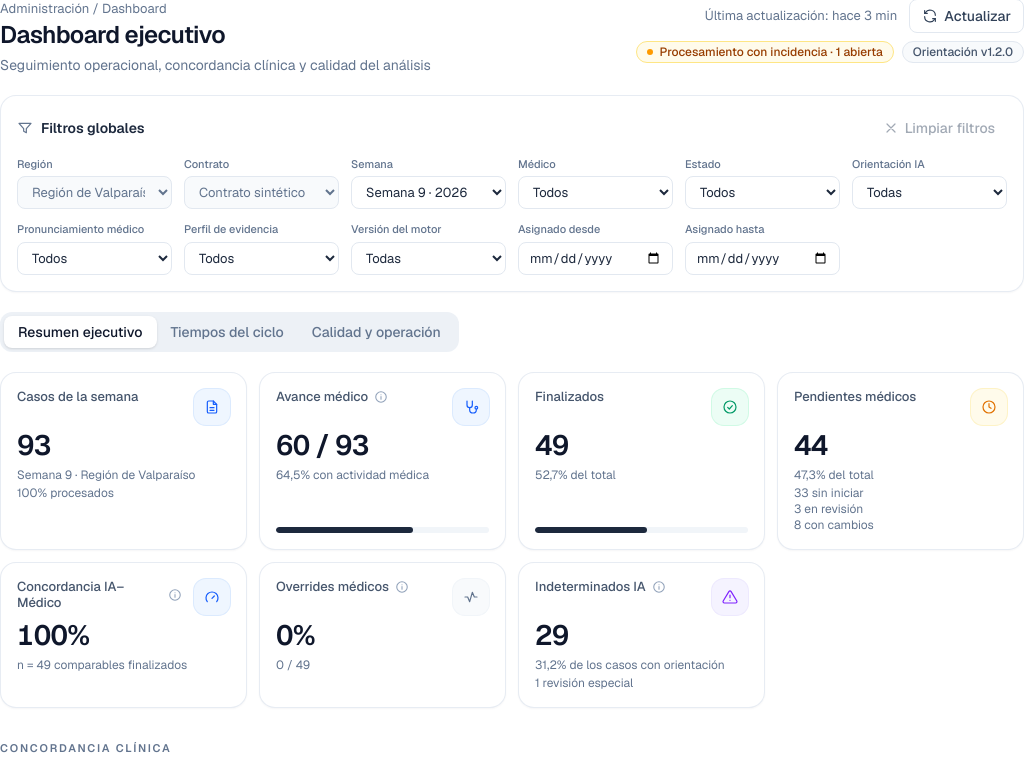
Test: Dashboard ejecutivo · tiempos del ciclo › K · sin corrección 49, con corrección 0 y campos modificados con su cobertura real
The image size is (1024, 762).
expect the element "Finalizados" is shown: met, box [518,372,765,550]
Click the tab "Tiempos del ciclo" at coordinates (227, 332), box [156,316,298,348]
(page scrolled)
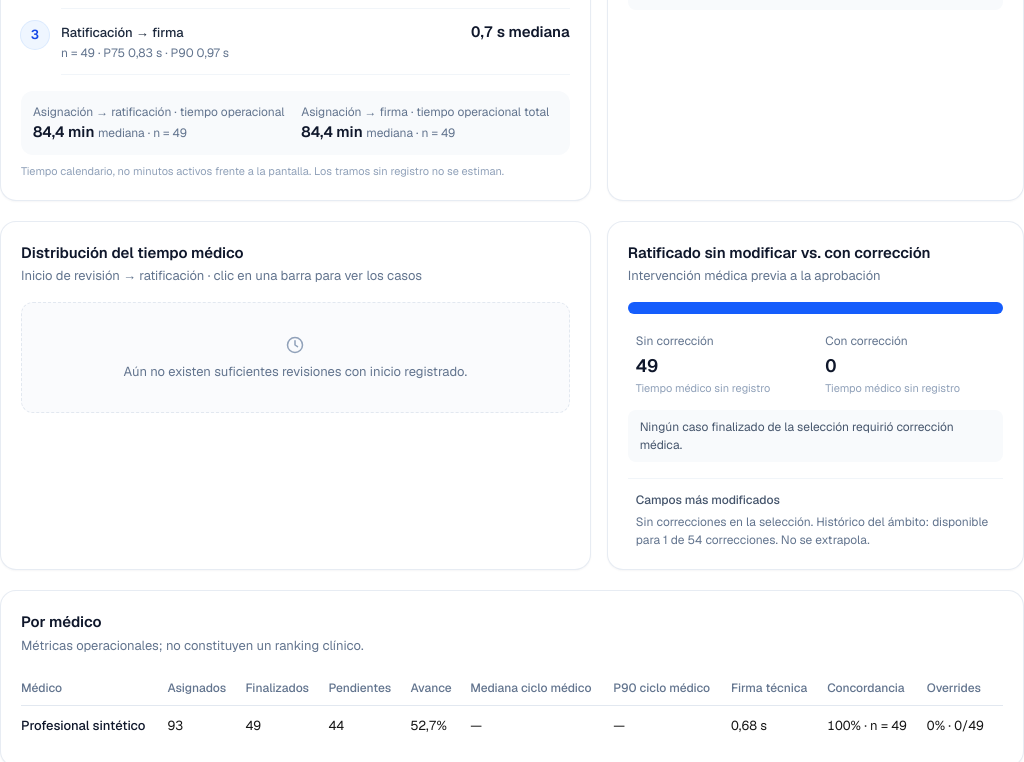
expect the text "49" is shown: met, box [636,354,658,376]
expect the text "Ningún caso finalizado de la selección requirió corrección médica." is shown: met, box [628,410,1003,462]
expect the element "Ratificado sin modificar vs. con corrección" shows "disponible para 1 de 54 correcciones. No se extrapola": met, box [607,220,1023,570]
